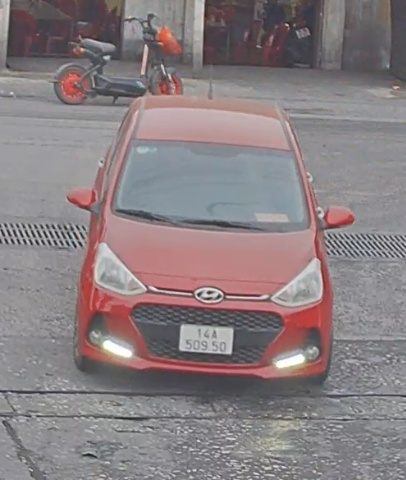vehicle plate: (171, 316, 239, 361)
